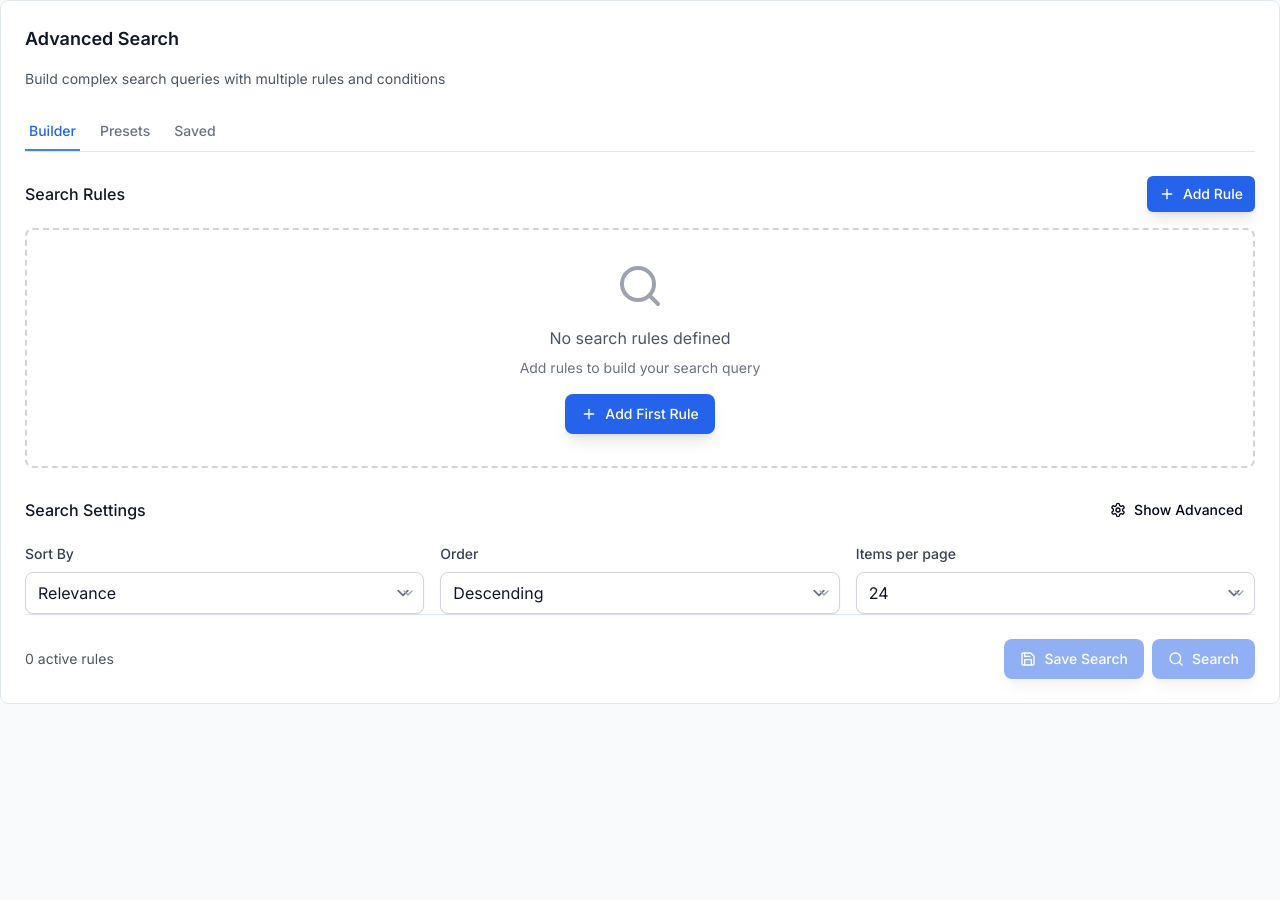
Test: AdvancedSearch › switches to presets tab
The width and height of the screenshot is (1280, 900).
Click the button "Presets": {"x": 125, "y": 132} [96,113,154,151]
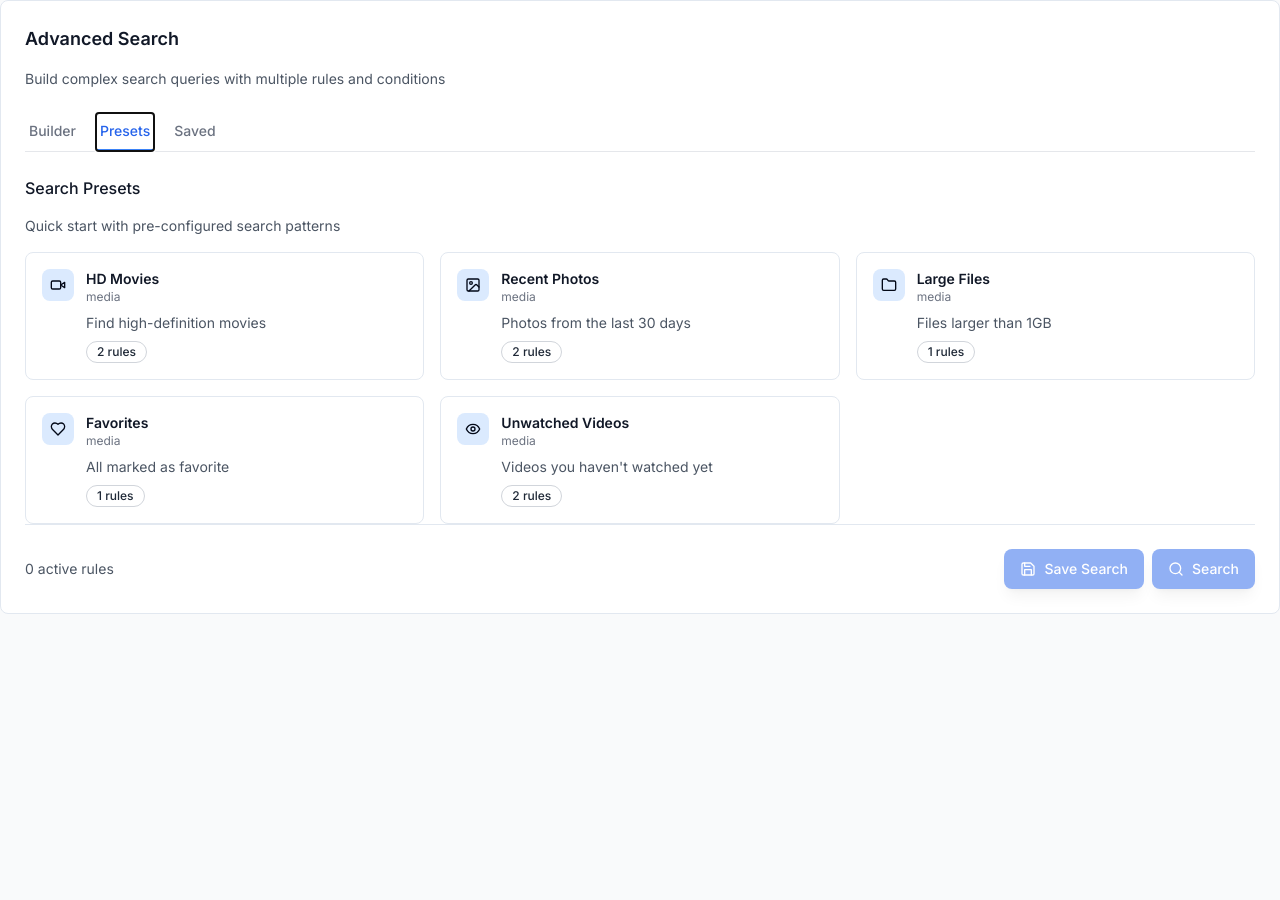
Expected: the heading "Search Presets" is shown, [25,178,140,198]
Expected: the text "Quick start with pre-configured search patterns" is shown, [25,217,340,234]
Expected: the heading "HD Movies" is shown, [86,270,159,287]
